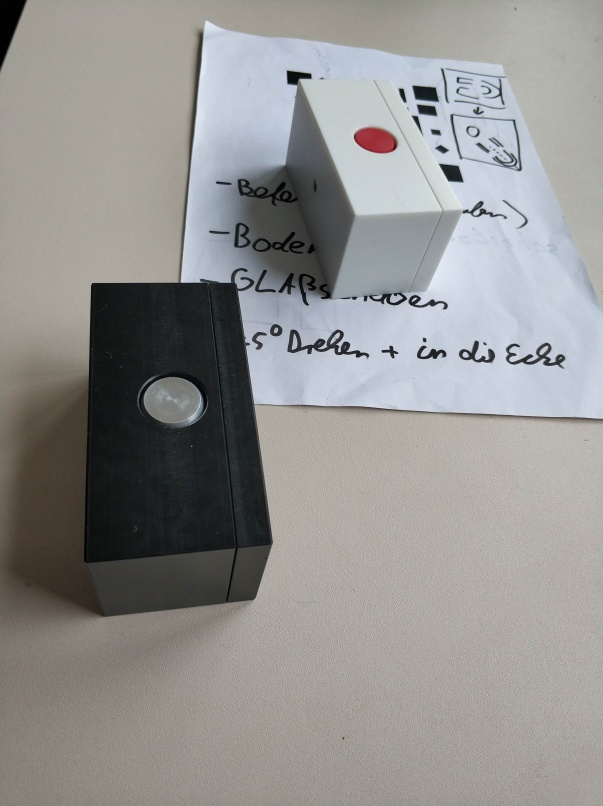black+black+silver: (79, 278, 278, 619)
white+white+red: (282, 76, 461, 302)
